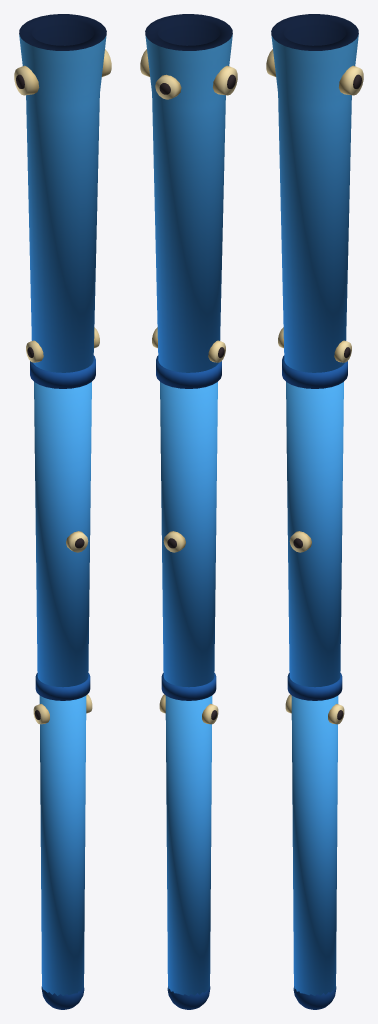
Rendered from Nami_ClimaTact.fbx.
3 views of the same model, side by side, from view 1: azimuth 30°, elevation 25°; view 2: azimuth 150°, elevation 25°; view 3: azimuth 330°, elevation 25° (orthographic).
Parts seen in each view (by area): view 1: Nami_ClimaTact; view 2: Nami_ClimaTact; view 3: Nami_ClimaTact.
Boxes of the visible parts, left/top/right/bottom form: Nami_ClimaTact: left=14, top=14, right=111, bottom=1009; Nami_ClimaTact: left=140, top=14, right=237, bottom=1009; Nami_ClimaTact: left=266, top=14, right=363, bottom=1009.
Size of the model in its own units: 0.4205 by 4.5 by 0.3876.
Materials: 1 (1 with a texture image).
